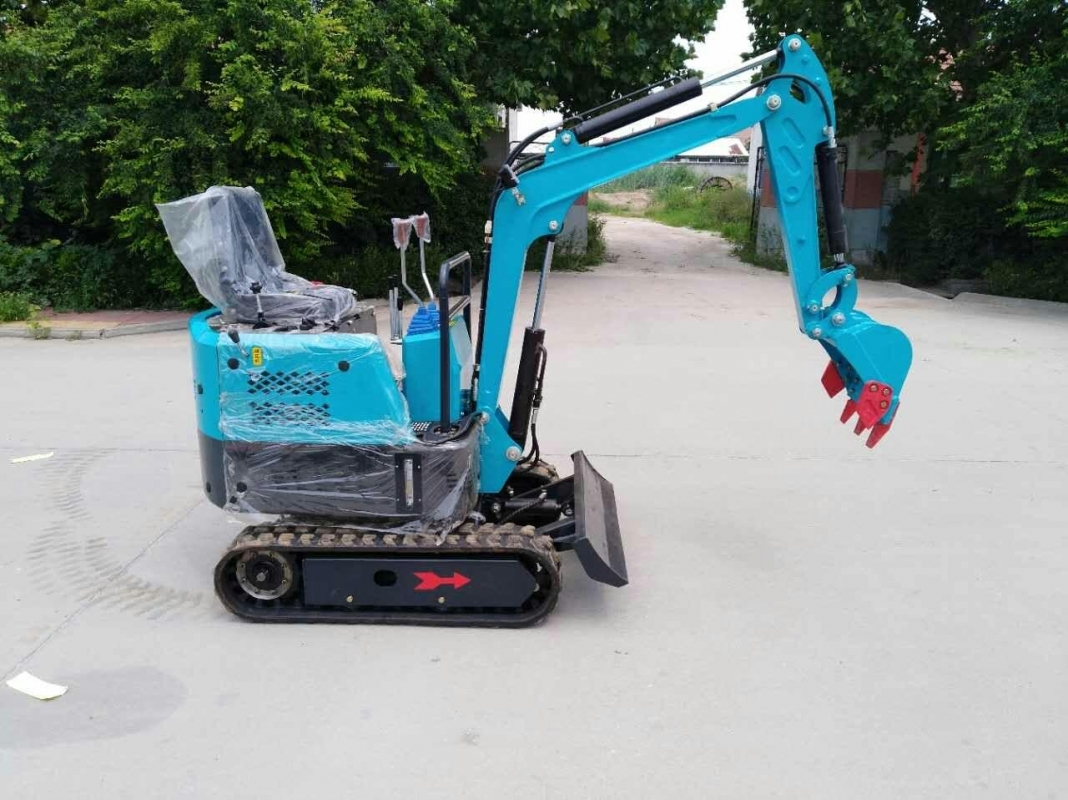excavator: (155, 24, 913, 661)
